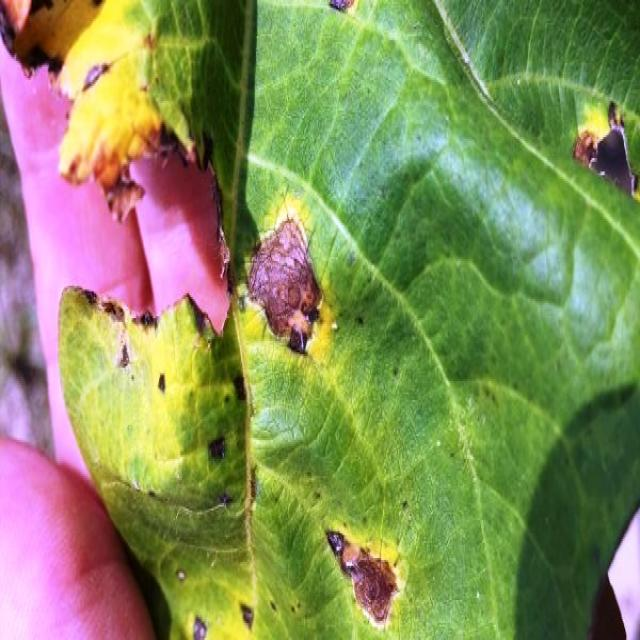Bacterial Blight: (67, 133, 326, 393)
